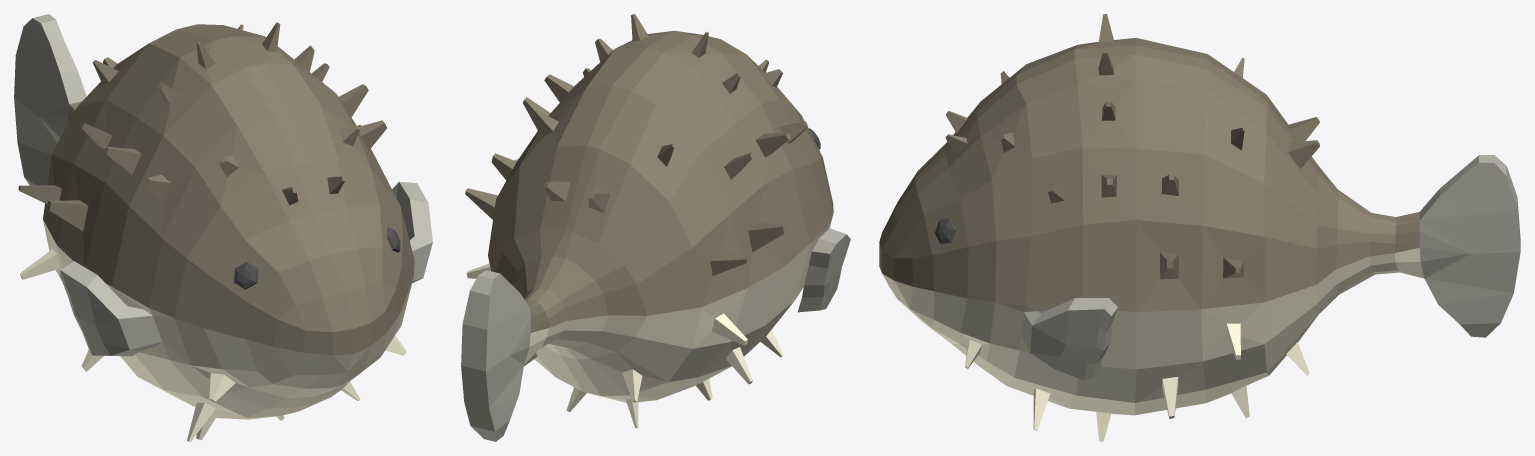
The model's file is fish07.fbx.
The picture shows the model from 3 angles, left to right: view 1: azimuth 30°, elevation 25°; view 2: azimuth 150°, elevation 25°; view 3: azimuth 270°, elevation 25°; orthographic projection. The views are drawn at different scales.
Visible parts, largest first — view 1: fish07; view 2: fish07; view 3: fish07.
Boxes of the visible parts, x1,y1,x2,y2 form: fish07: (14, 14, 432, 441); fish07: (461, 14, 850, 441); fish07: (879, 14, 1520, 441).
Bounding box in the file's own units: 51.29 × 81.13 × 54.43.
